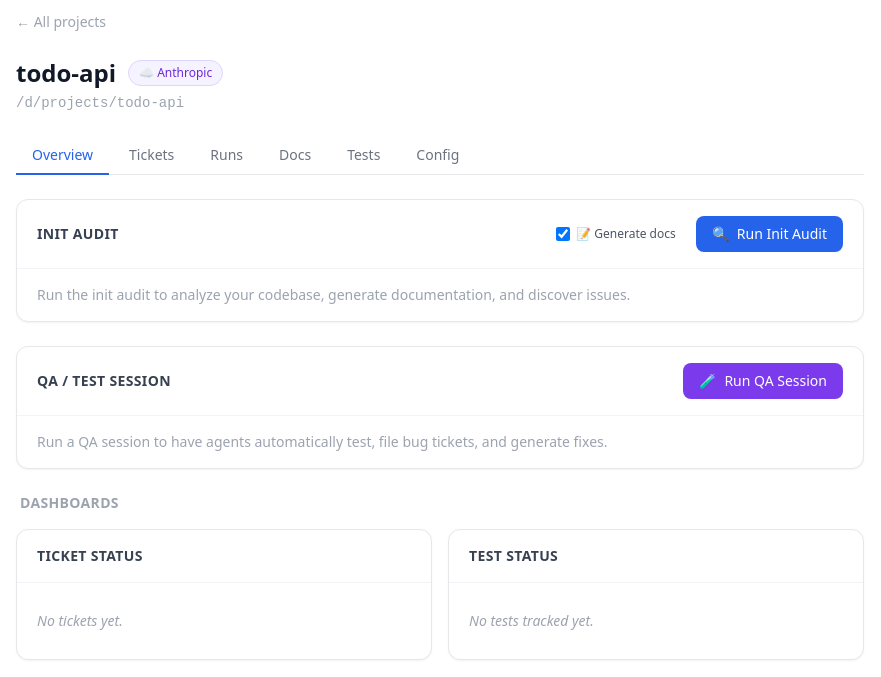
Test: ProjectDetailPage › shows empty state when Tests tab has no test data
Click the button "Tests" at x=364, y=156, box left=331, top=137, right=396, bottom=175
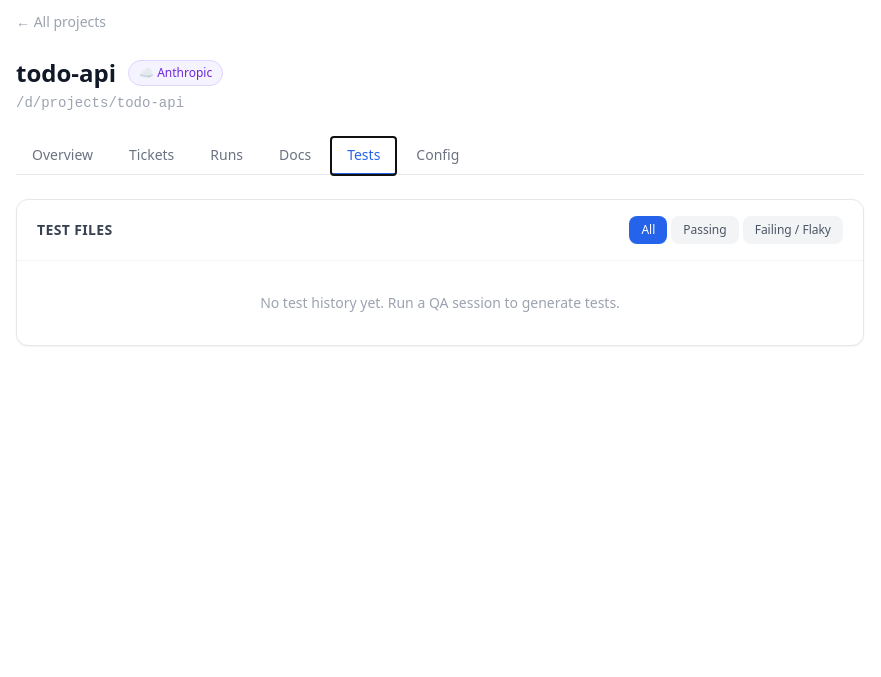
Expected: the text "No test history yet. Run a QA session to generate tests." is shown, left=260, top=293, right=620, bottom=312
